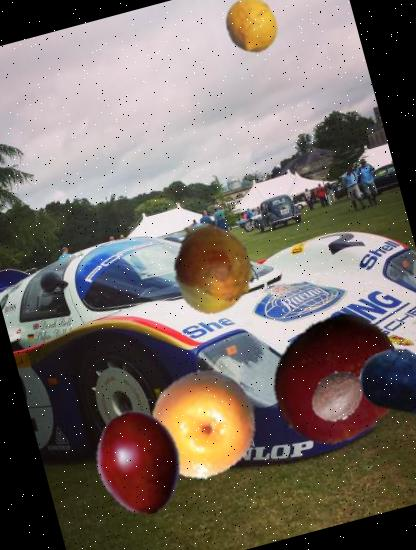Blueberry: (350, 325, 416, 434)
Cocos: (303, 361, 373, 431)
Kumquats: (135, 357, 271, 493)
Lemon: (217, 0, 286, 59)
Nectarine: (256, 297, 416, 459)
Onion: (157, 213, 270, 326)
Tamarillo: (67, 386, 209, 528)
